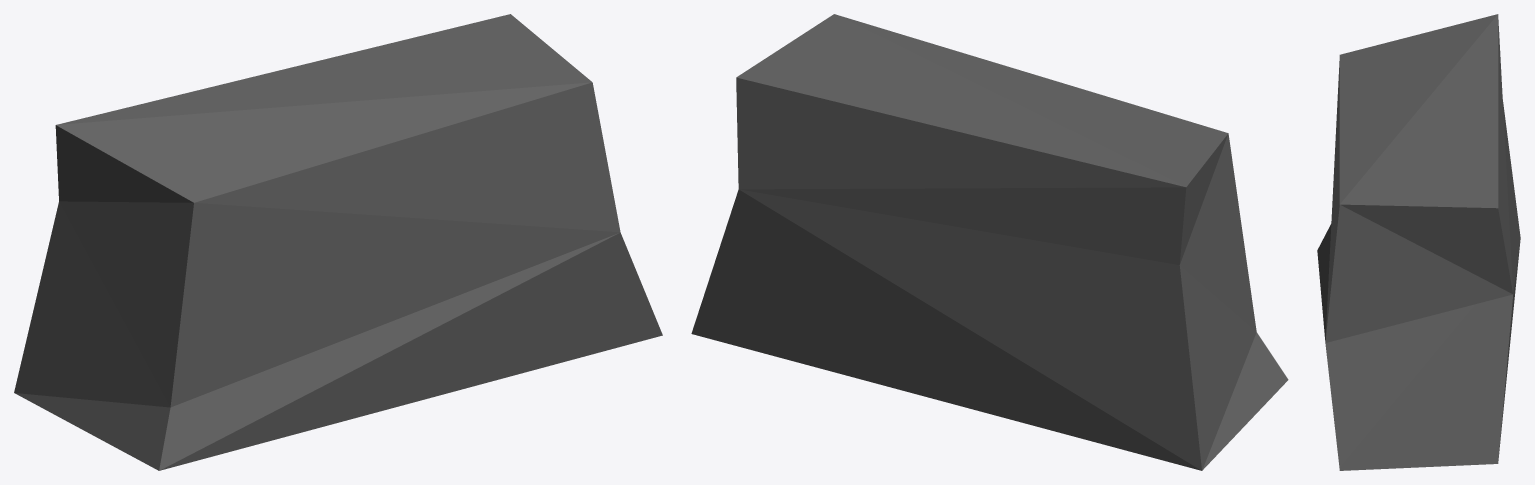
The model's file is Stone_Rail_10.FBX.
3 views of the same model, side by side, from view 1: azimuth 30°, elevation 25°; view 2: azimuth 150°, elevation 25°; view 3: azimuth 270°, elevation 25° (orthographic). The views are drawn at different scales.
Visible parts, largest first — view 1: Stone_Rail_10; view 2: Stone_Rail_10; view 3: Stone_Rail_10.
Part boxes in pixels (x1,y1,x2,y2): Stone_Rail_10: (14, 14, 662, 470); Stone_Rail_10: (691, 14, 1288, 470); Stone_Rail_10: (1317, 14, 1520, 470).
Size of the model in its own units: 1.65 by 0.781 by 0.609.
